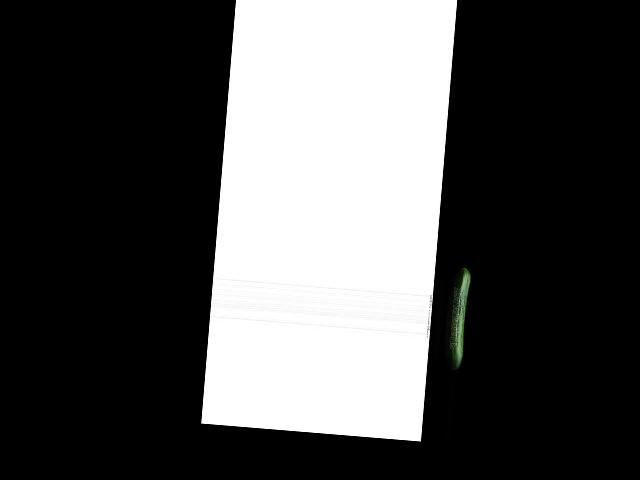cucumber: (446, 266, 470, 369)
